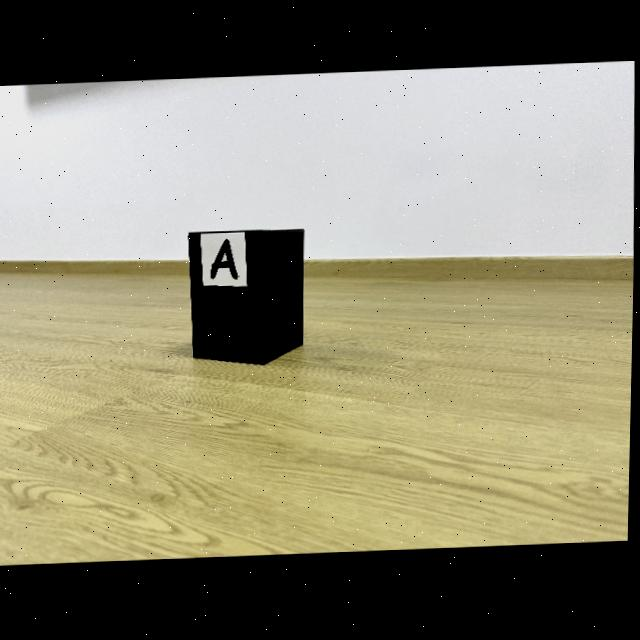A: (212, 240, 239, 280)
